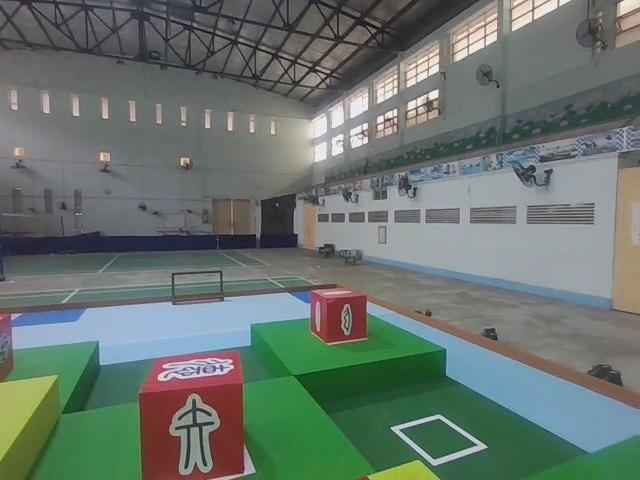R2 Fake: (138, 349, 248, 480)
R2 Real: (309, 285, 370, 346)
